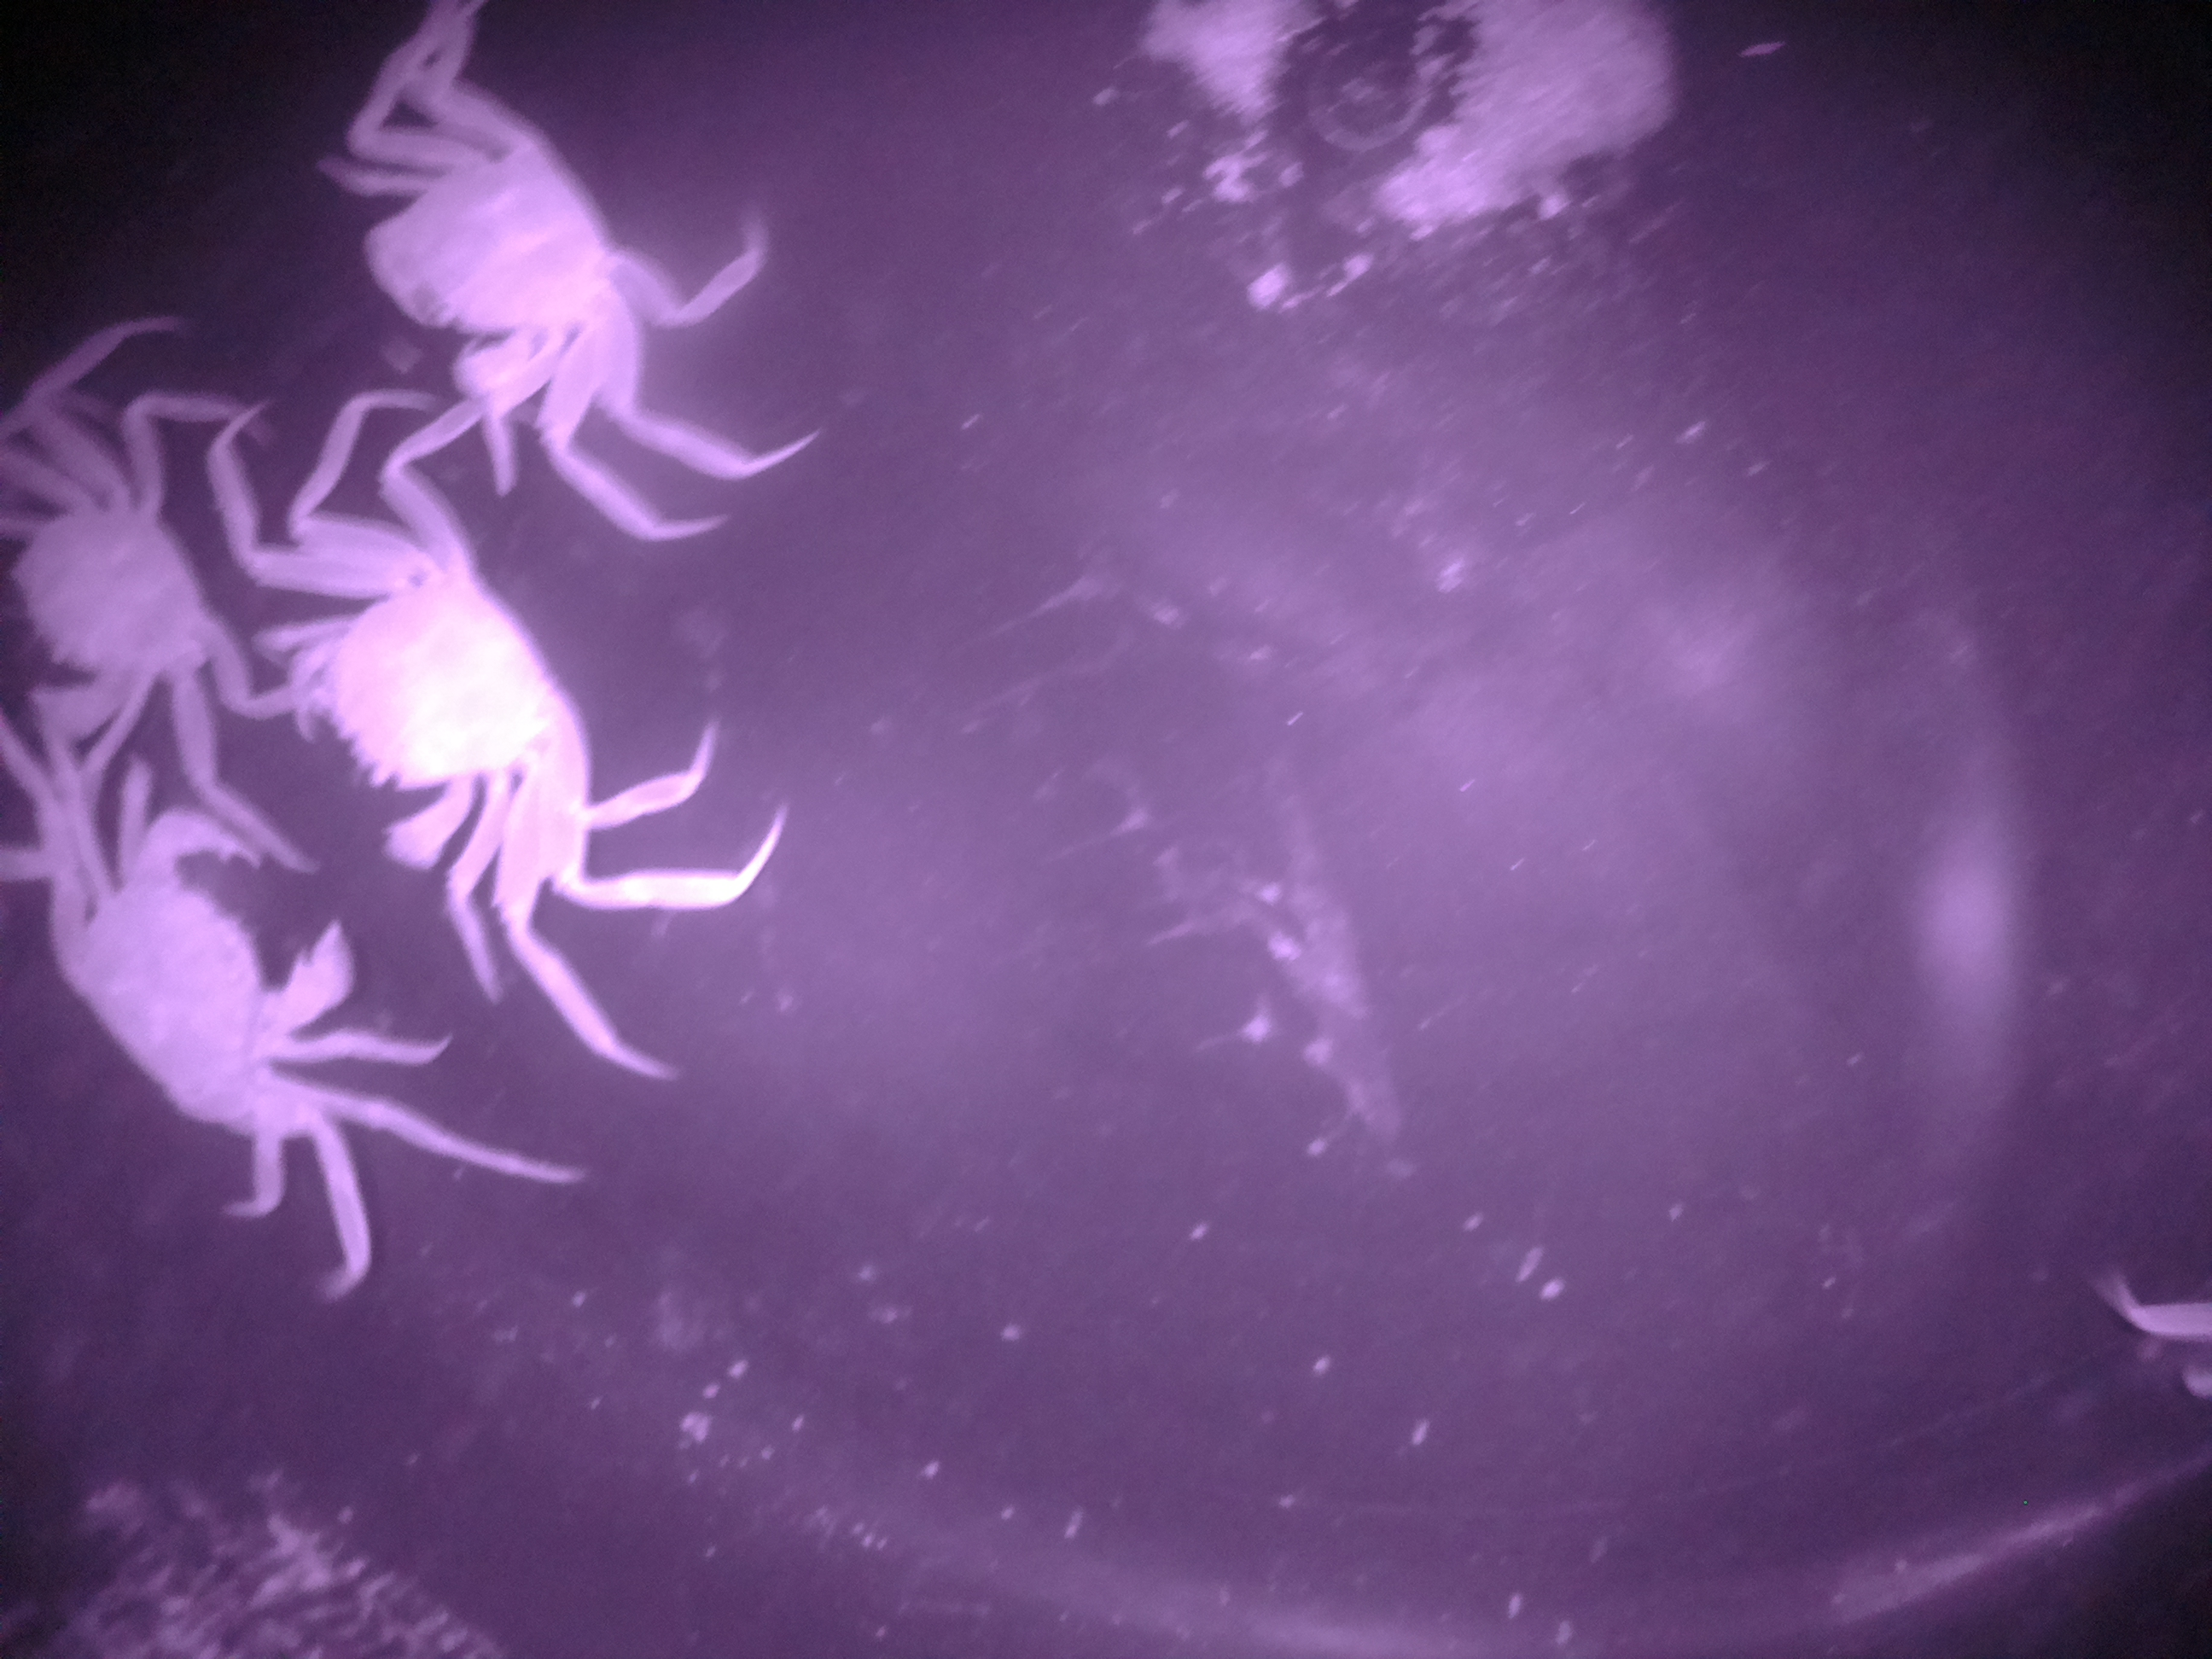Crab: (223, 371, 651, 1018), (0, 777, 430, 1290), (310, 24, 777, 455)
